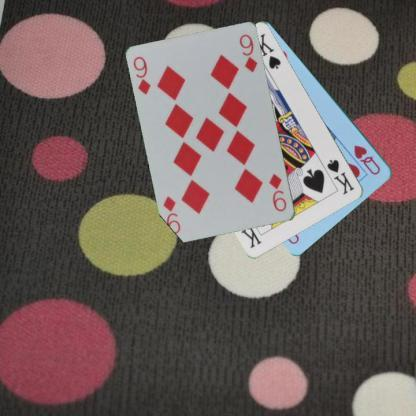9d: (266, 171, 288, 213), (130, 54, 152, 96)
Ks: (325, 156, 356, 196)
Qh: (351, 142, 382, 176)
